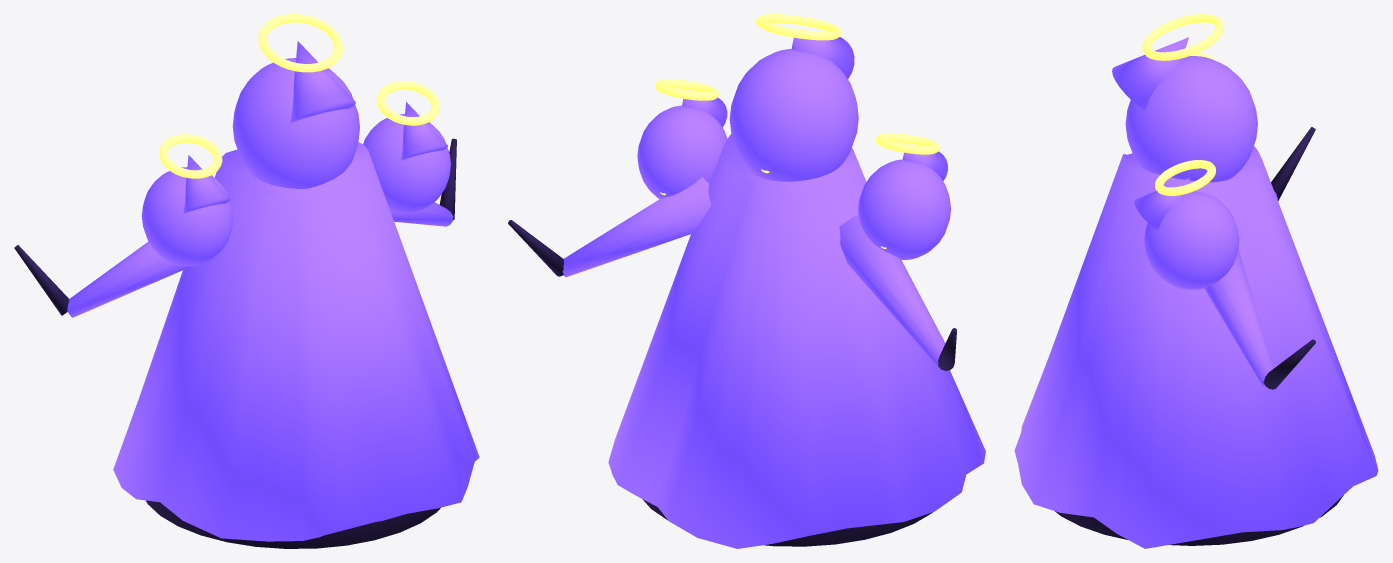
Rendered from choir.glb.
The picture shows the model from 3 angles, left to right: view 1: azimuth 30°, elevation 25°; view 2: azimuth 150°, elevation 25°; view 3: azimuth 270°, elevation 25°; orthographic projection.
Visible parts, largest first — view 1: Body; view 2: Body; view 3: Body.
Part boxes in pixels (left/top/right/bottom): Body: left=14, top=14, right=479, bottom=548; Body: left=508, top=14, right=985, bottom=548; Body: left=1014, top=14, right=1378, bottom=548.
Bounding box in the file's own units: 2.93 × 2.89 × 2.09.
